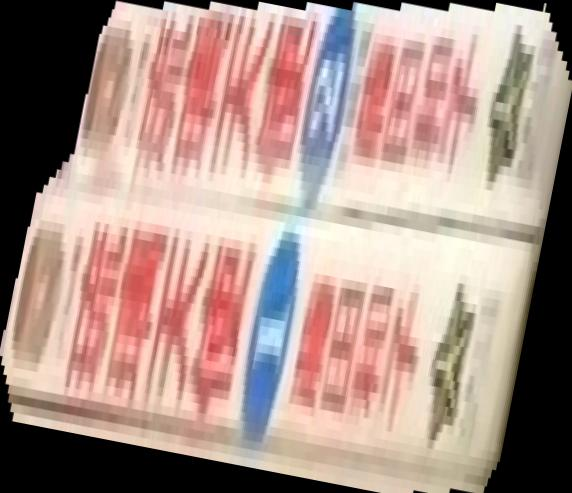flat: (1, 1, 572, 493)
